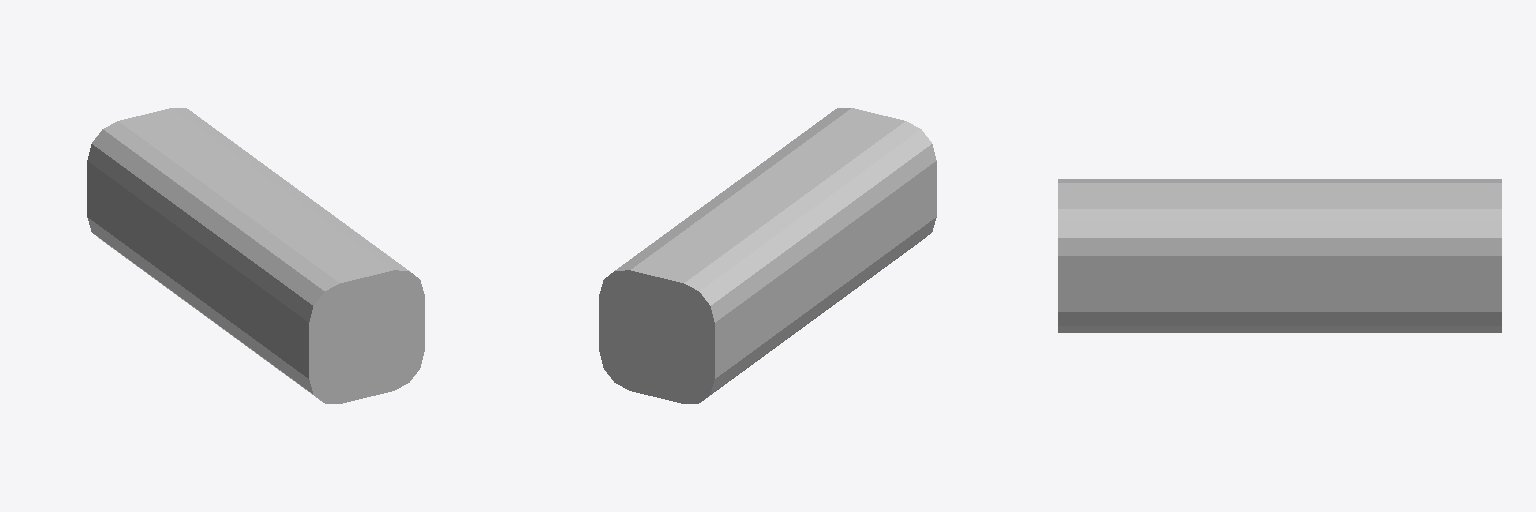
The model's file is LED2.obj.
3 views of the same model, side by side, from view 1: azimuth 30°, elevation 25°; view 2: azimuth 150°, elevation 25°; view 3: azimuth 270°, elevation 25° (orthographic).
Parts seen in each view (by area): view 1: LED2; view 2: LED2; view 3: LED2.
Part boxes in pixels (bbox=[...]): LED2: bbox=[87, 108, 424, 403]; LED2: bbox=[599, 108, 936, 403]; LED2: bbox=[1058, 179, 1501, 332].
Bounding box in the file's own units: 1.5 × 1.5 × 5.